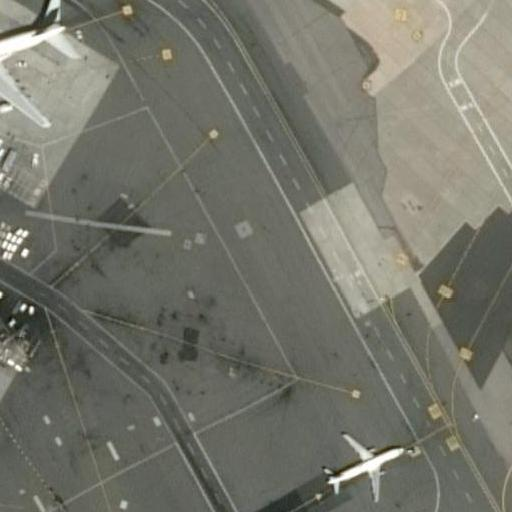Aircraft: (0, 0, 84, 129), (318, 422, 406, 504)
